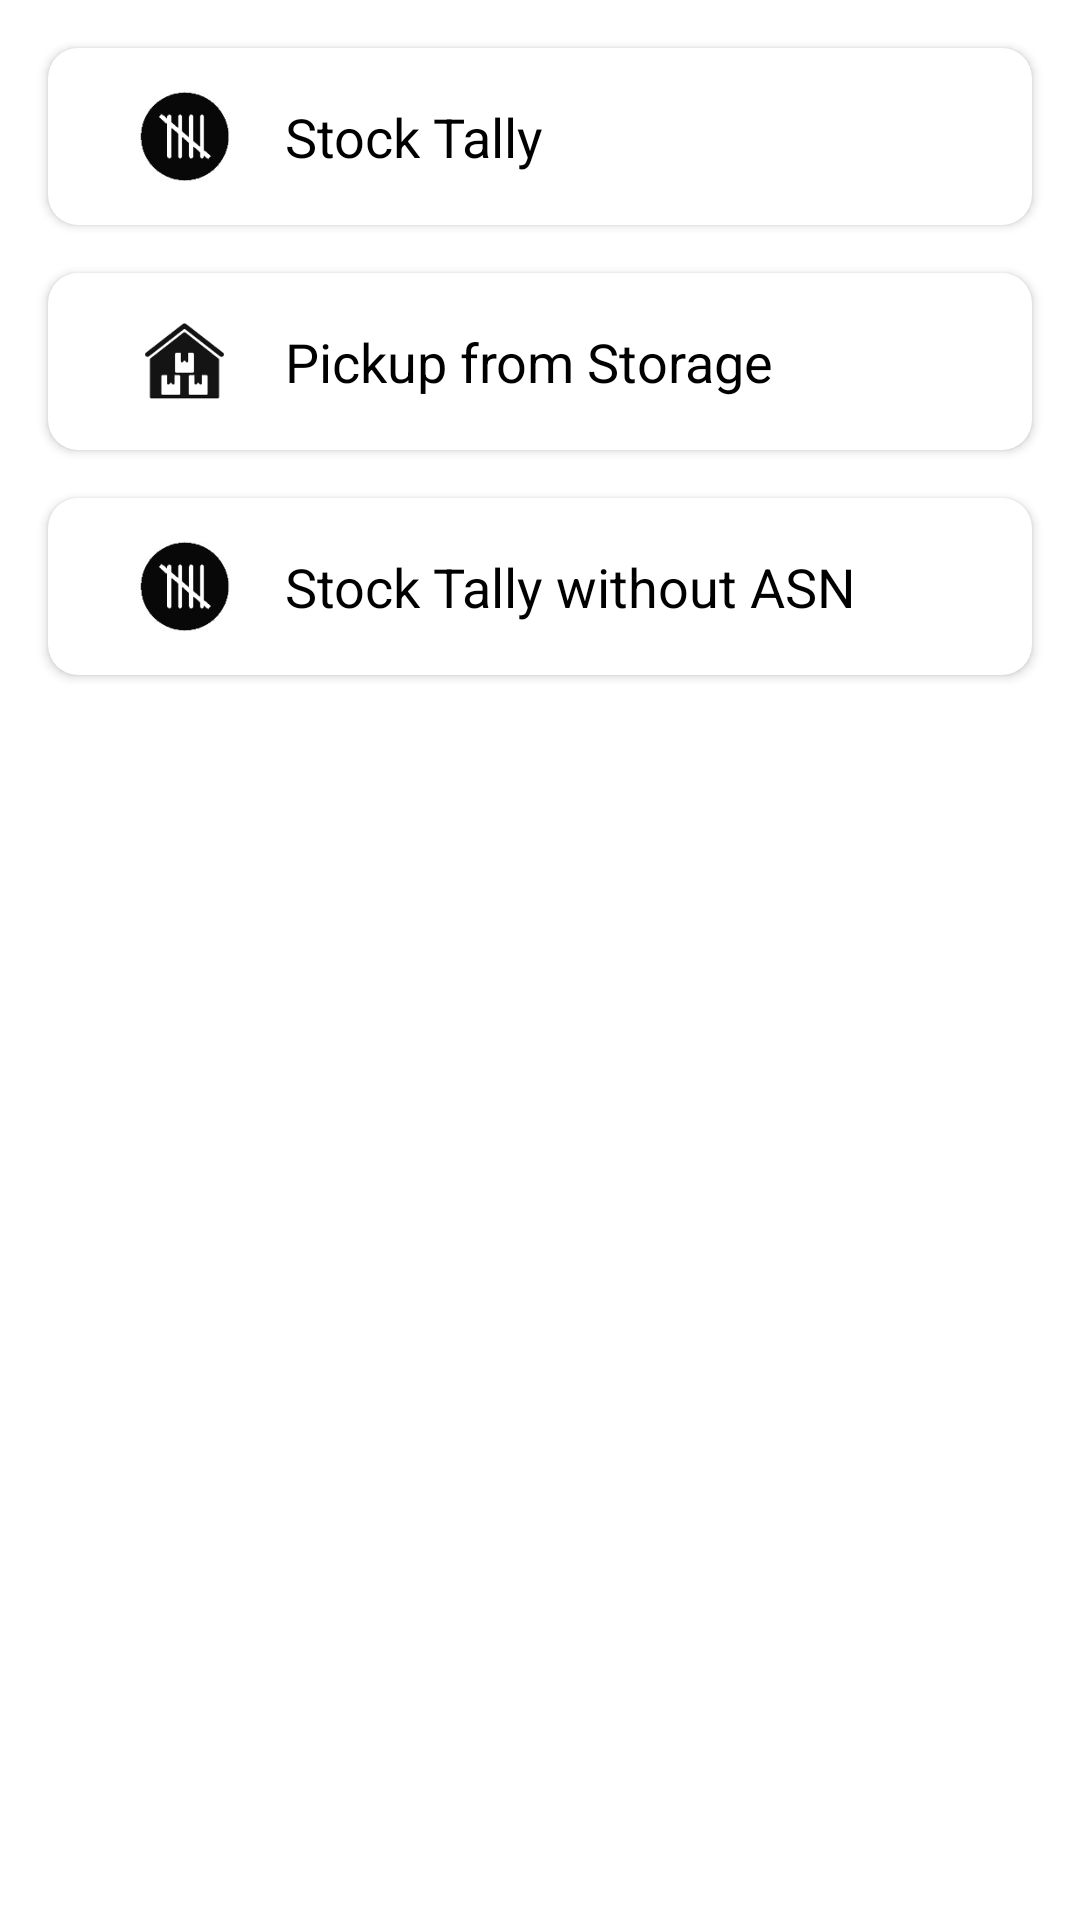

Named icons in this screenshot (1080*1920) and their bounding boxes, (x1=x1, y1=y1, x2=x2, y2=y2):
pick from storage: (x1=145, y1=323, x2=224, y2=399)
